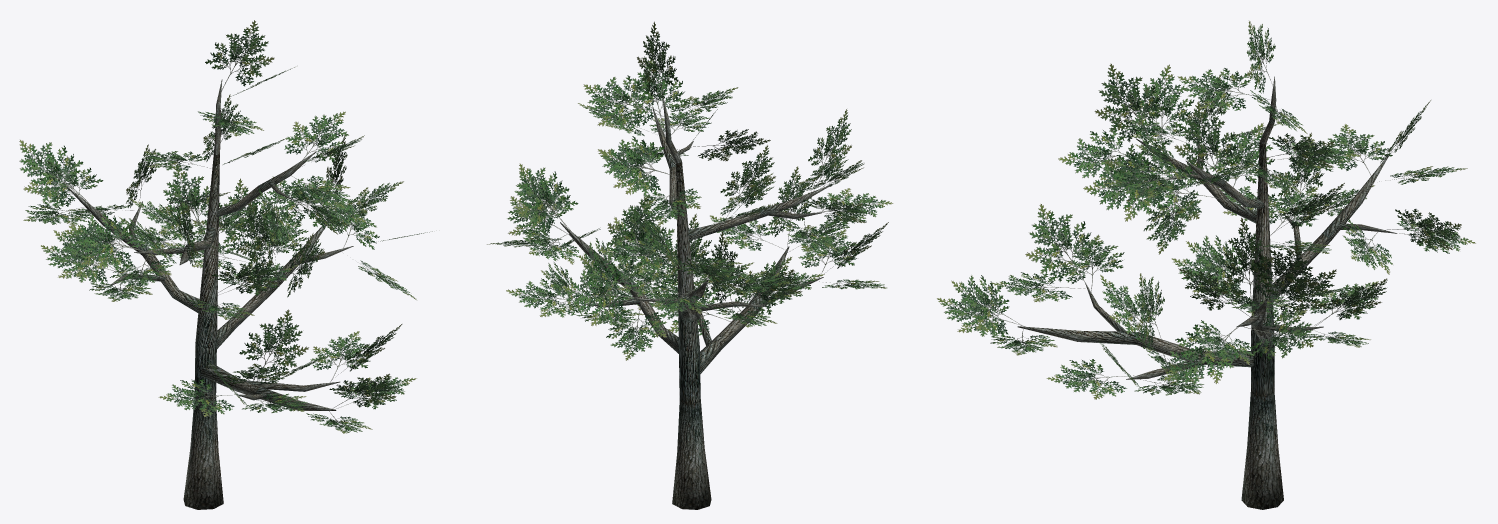
The model's file is tree_4.obj.
3 views of the same model, side by side, from view 1: azimuth 30°, elevation 25°; view 2: azimuth 150°, elevation 25°; view 3: azimuth 270°, elevation 25° (orthographic). The views are drawn at different scales.
Parts seen in each view (by area): view 1: leaves, branches, trunk; view 2: leaves, trunk, branches; view 3: leaves, branches, trunk.
Boxes of the visible parts, x1=… form: leaves: x1=19, y1=20, x2=432, y2=433; branches: x1=67, y1=79, x2=353, y2=410; trunk: x1=183, y1=153, x2=223, y2=509; leaves: x1=487, y1=21, x2=893, y2=360; trunk: x1=672, y1=161, x2=711, y2=509; branches: x1=560, y1=97, x2=830, y2=374; leaves: x1=937, y1=21, x2=1475, y2=399; branches: x1=1017, y1=76, x2=1396, y2=379; trunk: x1=1241, y1=142, x2=1283, y2=509.
Bounding box in the file's own units: 103 × 125 × 123.
2 materials, 2 textured.
